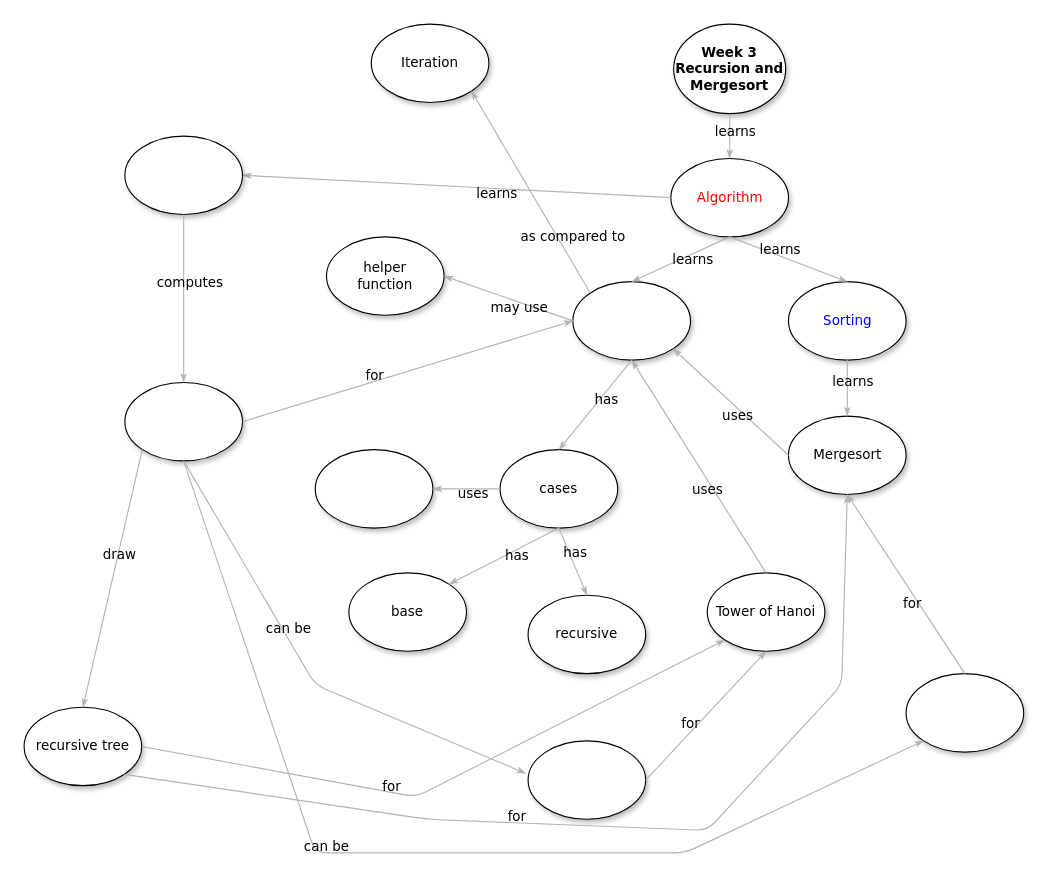
Some shapes in this 1051 by 880 pixel diagram are drawn without their labels. Here are the shapes that lost their labels. From the top down, the centre of each, then its label:
At (184,176): "Complexity".
At (632,322): "Recursion".
At (184,423): "Computational Time".
At (375,490): "if-else".
At (965,714): "log linear".
At (587,781): "exponential".
